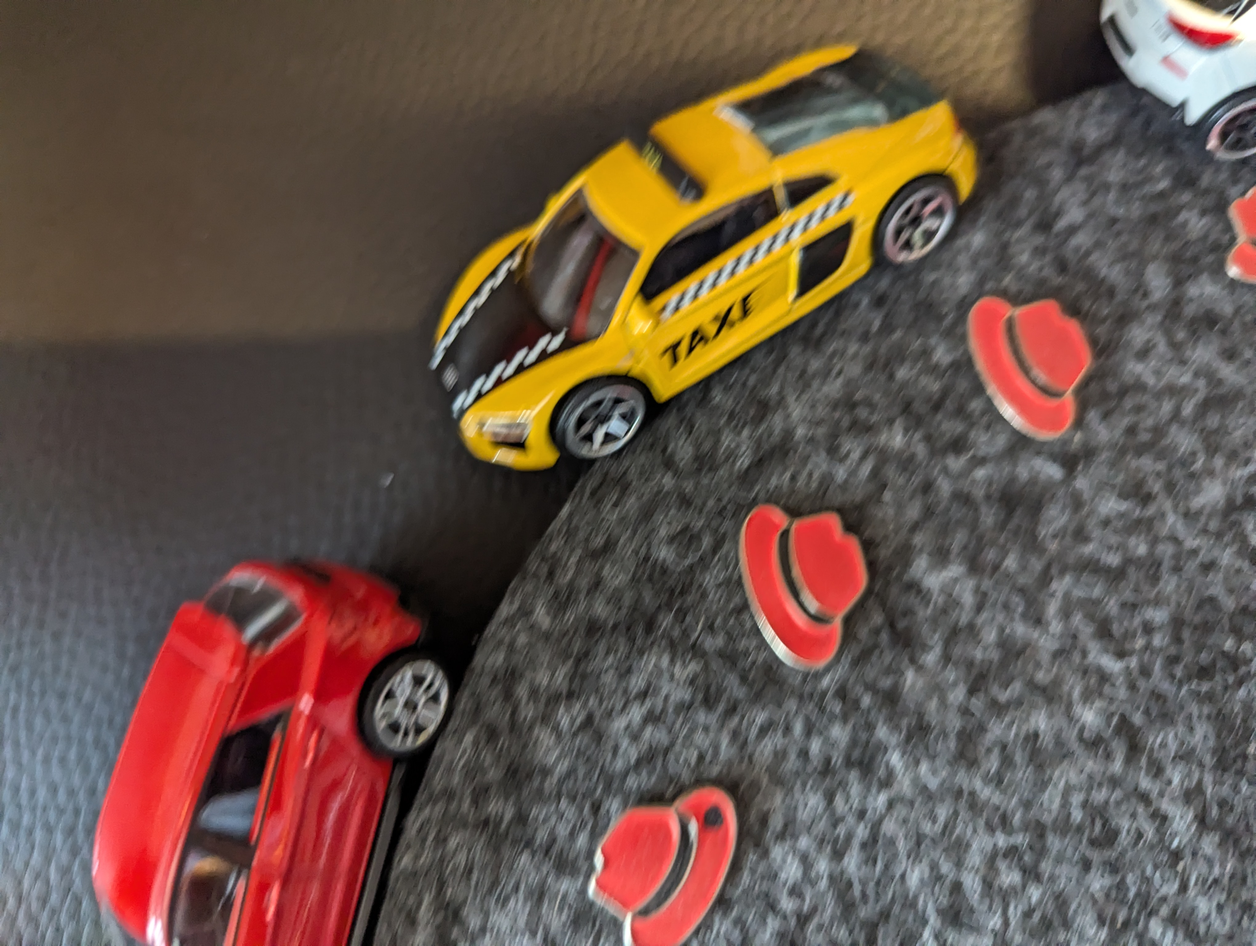Car: (365, 28, 1009, 471), (63, 522, 469, 946)
Red-Hat: (701, 474, 888, 683), (565, 767, 774, 946), (948, 288, 1103, 452)
Scratch: (689, 798, 741, 835)
